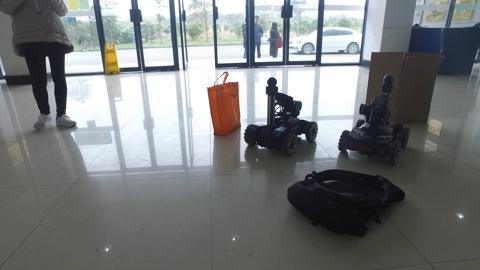bag: (205, 72, 242, 135)
chariot: (340, 80, 414, 160), (244, 78, 317, 153)
